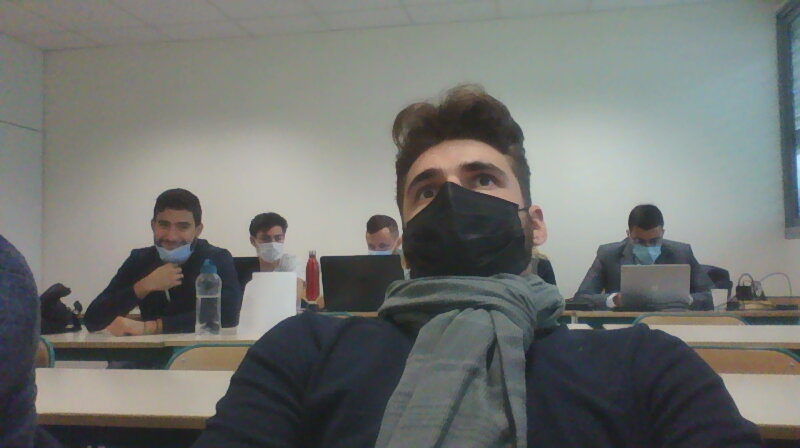with_incorrect_mask: (148, 207, 203, 264)
with_mask: (392, 148, 545, 286), (248, 213, 291, 265), (625, 209, 667, 261)
